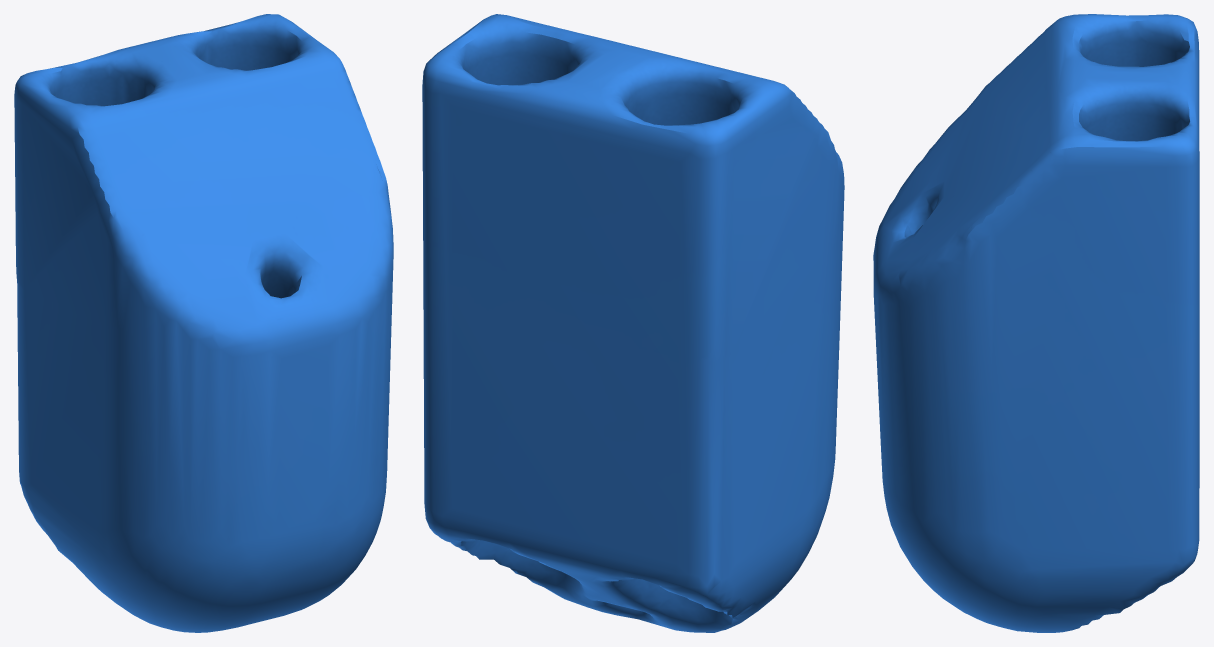
File: right_finger3_upper.glb
The picture shows the model from 3 angles, left to right: view 1: azimuth 30°, elevation 25°; view 2: azimuth 150°, elevation 25°; view 3: azimuth 270°, elevation 25°; orthographic projection. The views are drawn at different scales.
Visible parts, largest first — view 1: right_finger3_upper; view 2: right_finger3_upper; view 3: right_finger3_upper.
Boxes of the visible parts, <box> form: right_finger3_upper: <box>14,14,393,632</box>; right_finger3_upper: <box>422,14,844,632</box>; right_finger3_upper: <box>873,14,1199,632</box>.
Size of the model in its own units: 0.0107 by 0.0196 by 0.0109.
1 material, 1 textured.
